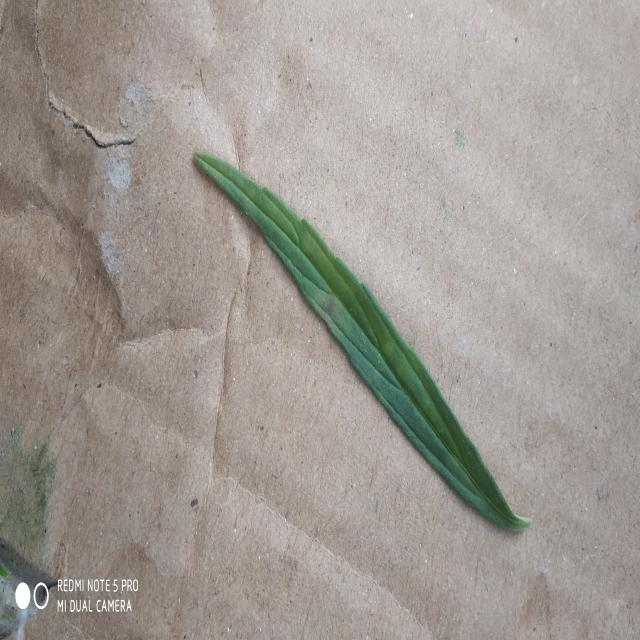thambe: (195, 151, 531, 531)
